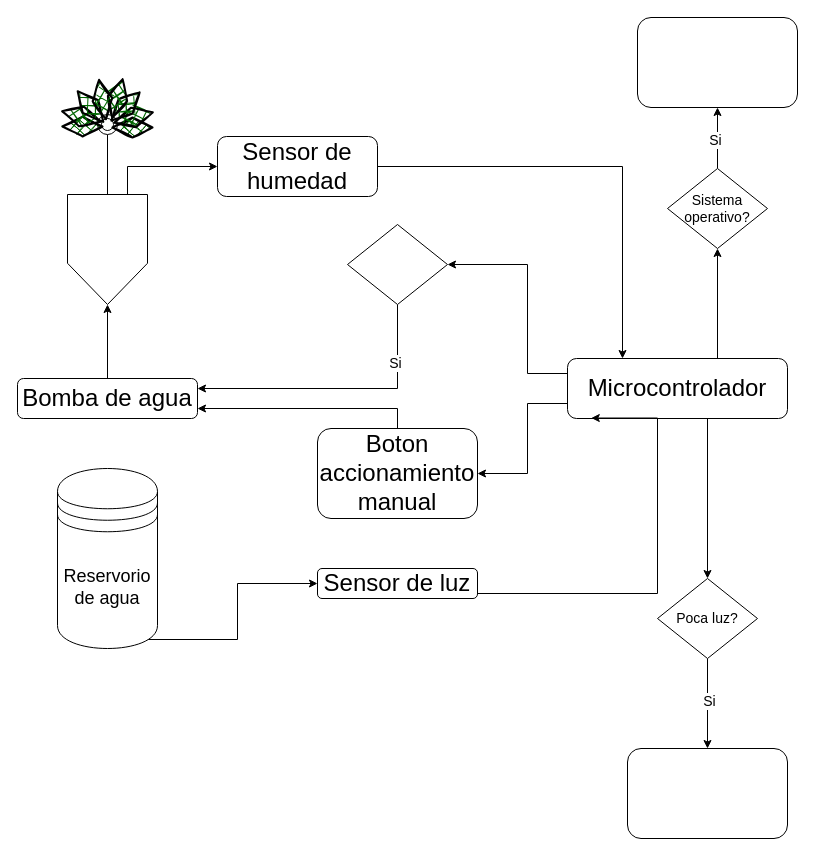
This 815x856 diagram has some shape labels left out. Here are the shapes that lost their labels. From the top down, the box of each, then its label:
(636, 16, 798, 108): LED parpadeante
(66, 194, 148, 304): Maceta
(346, 224, 448, 304): Poca humedad?
(626, 748, 788, 838): LED alerta - bajo nivel de agua
